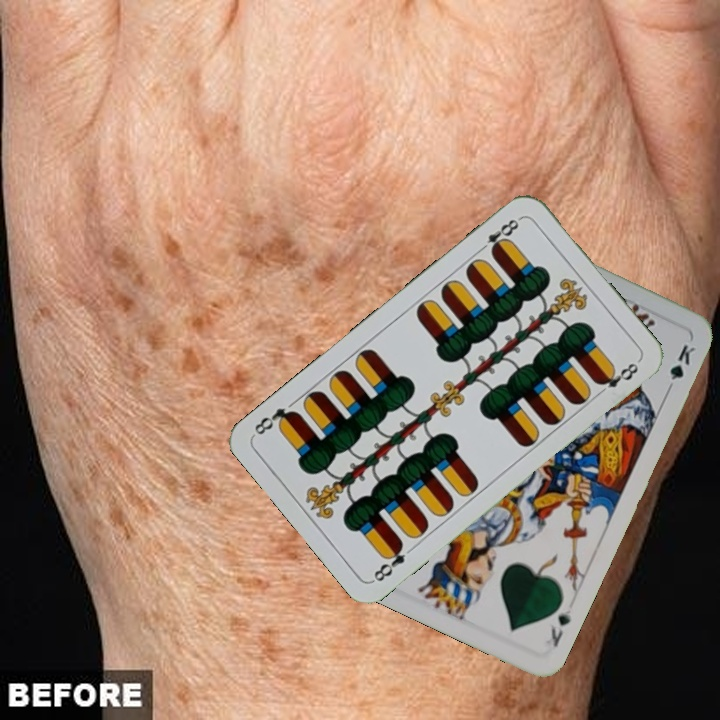E8: (474, 213, 524, 258), (369, 538, 408, 585)
GK: (546, 604, 574, 650)
